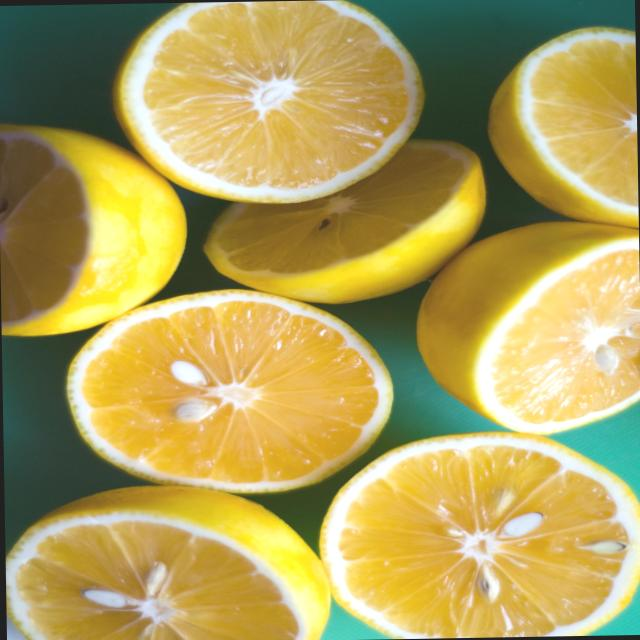lemon: (318, 431, 640, 640), (114, 0, 449, 197), (70, 304, 392, 476), (7, 478, 330, 640), (416, 218, 640, 438), (482, 17, 638, 230)
